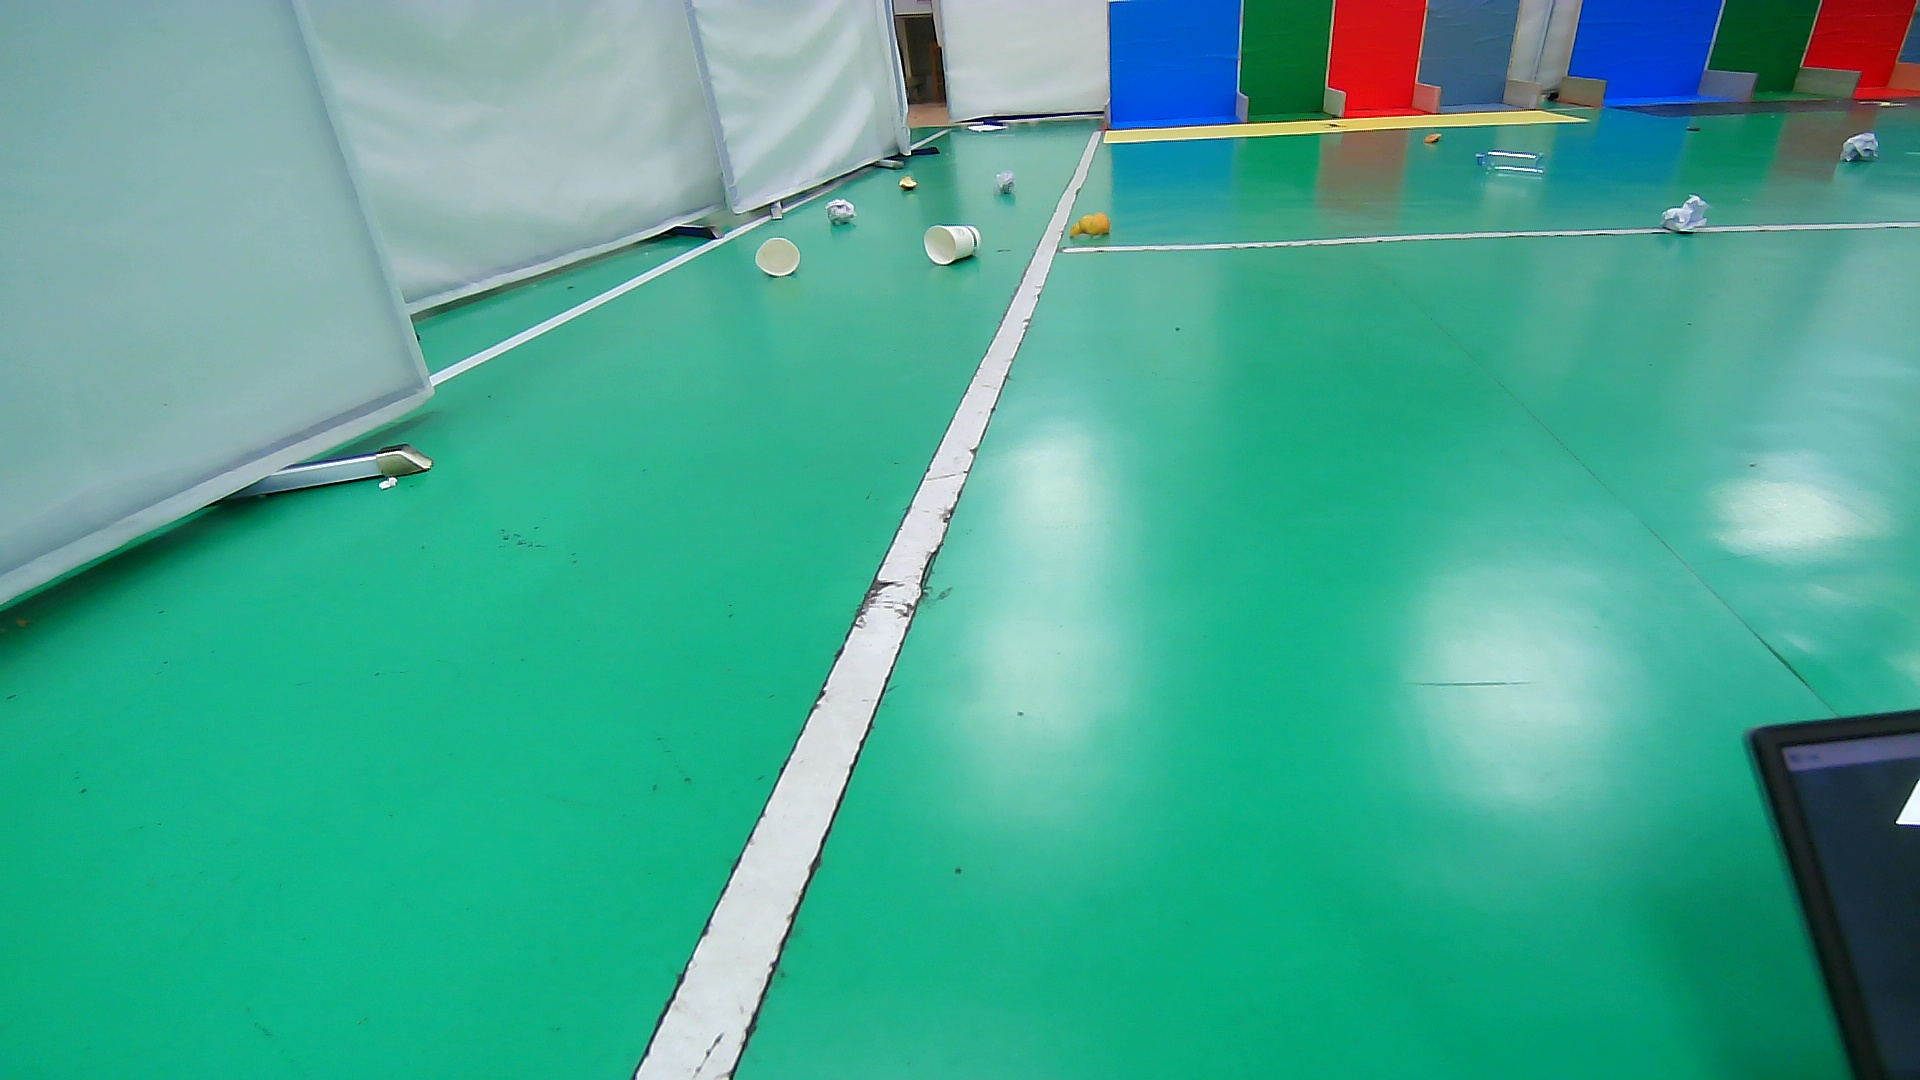battery: (1677, 117, 1709, 138)
bottle: (1472, 146, 1553, 179)
orangepeel: (1063, 212, 1114, 243), (891, 171, 924, 195), (1418, 129, 1451, 146)
papercup: (922, 222, 984, 266), (752, 233, 803, 280)
spitball: (1658, 191, 1716, 237), (1838, 129, 1882, 164), (823, 196, 858, 227), (992, 167, 1019, 198)
